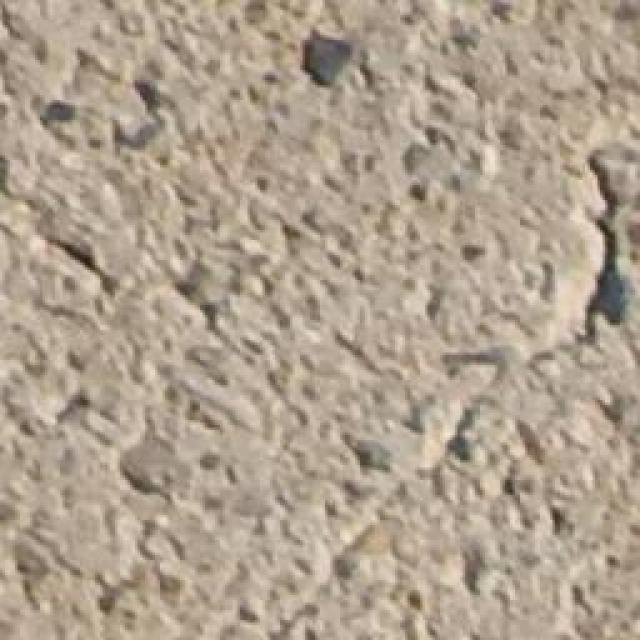concrete-crack: (256, 167, 631, 640)
